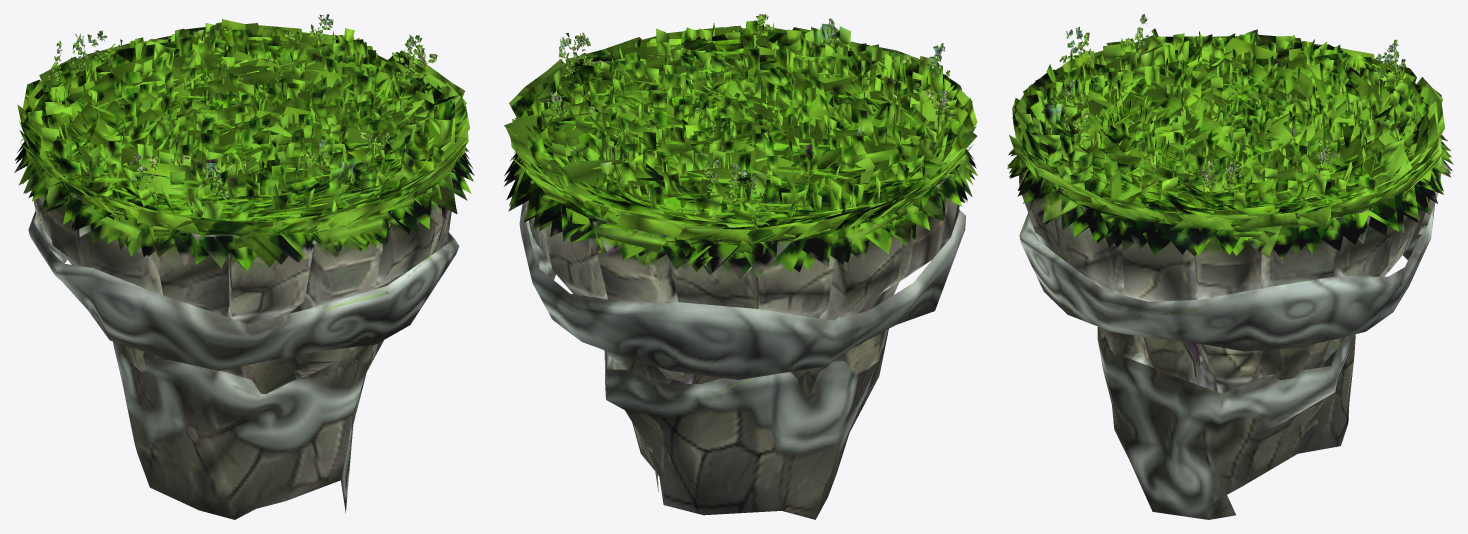
File: Meshy_AI_Floating_Meadow_0721143555_texture.fbx
The picture shows the model from 3 angles, left to right: view 1: azimuth 30°, elevation 25°; view 2: azimuth 150°, elevation 25°; view 3: azimuth 270°, elevation 25°; orthographic projection. The views are drawn at different scales.
Visible parts, largest first — view 1: Mesh_0; view 2: Mesh_0; view 3: Mesh_0.
Part boxes in pixels (x1=…): Mesh_0: x1=14, y1=14, x2=474, y2=519; Mesh_0: x1=503, y1=14, x2=978, y2=519; Mesh_0: x1=1007, y1=14, x2=1453, y2=519.
Size of the model in its own units: 97.07 by 98.83 by 99.22.
1 material, 1 textured.
